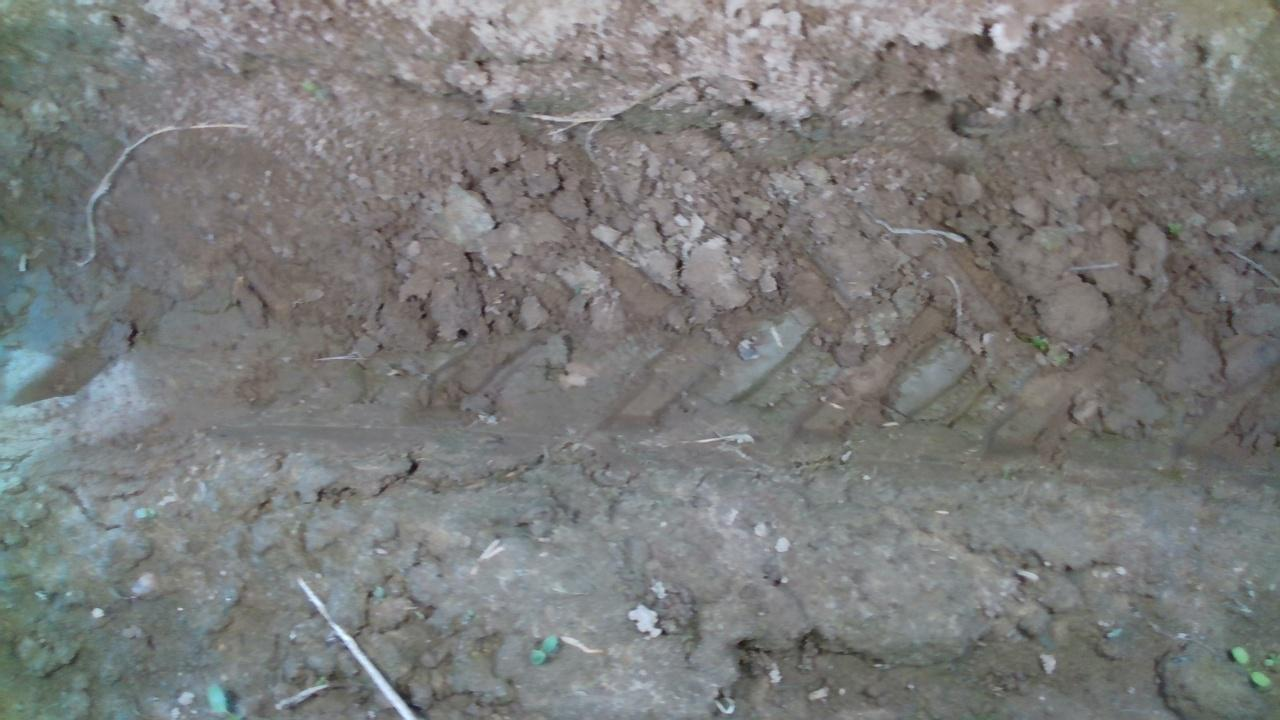weed: (526, 631, 558, 667)
